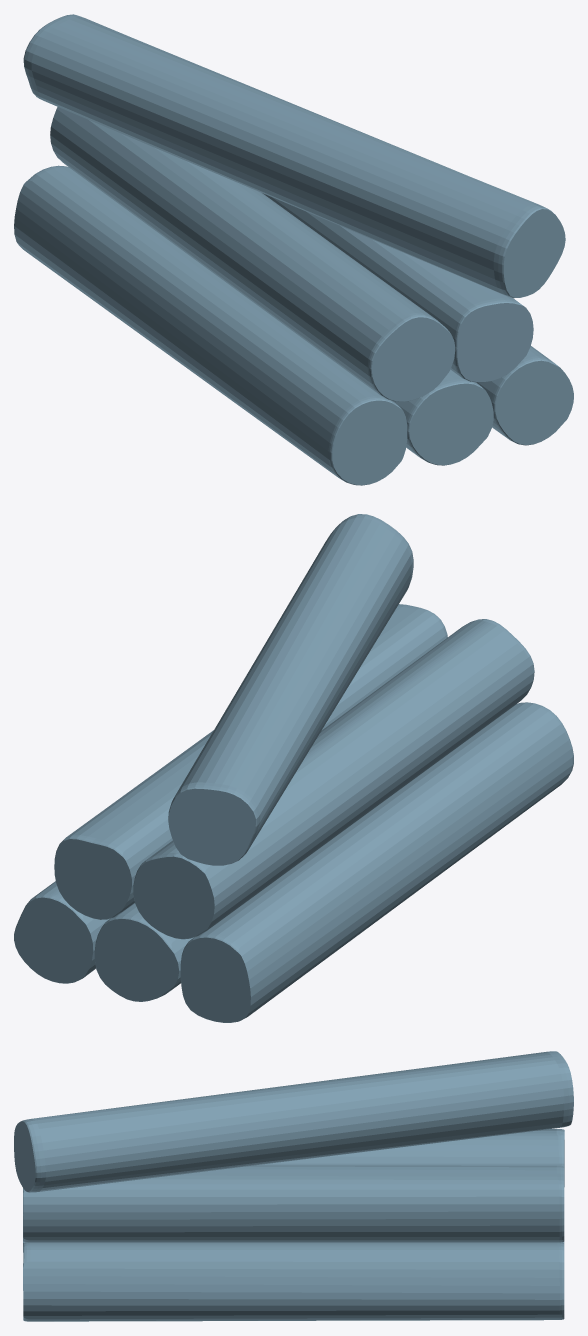
The model's file is IronRod.gltf.
3 renders of one model, top to bottom at view 1: azimuth 30°, elevation 25°; view 2: azimuth 150°, elevation 25°; view 3: azimuth 270°, elevation 25°, orthographic. The views are drawn at different scales.
Parts seen in each view (by area): view 1: IronRod; view 2: IronRod; view 3: IronRod.
Part boxes in pixels (left/top/right/bottom): IronRod: left=14, top=14, right=573, bottom=485; IronRod: left=14, top=514, right=573, bottom=1022; IronRod: left=14, top=1051, right=573, bottom=1321.
Size of the model in its own units: 0.2999 by 0.2763 by 0.7088.
